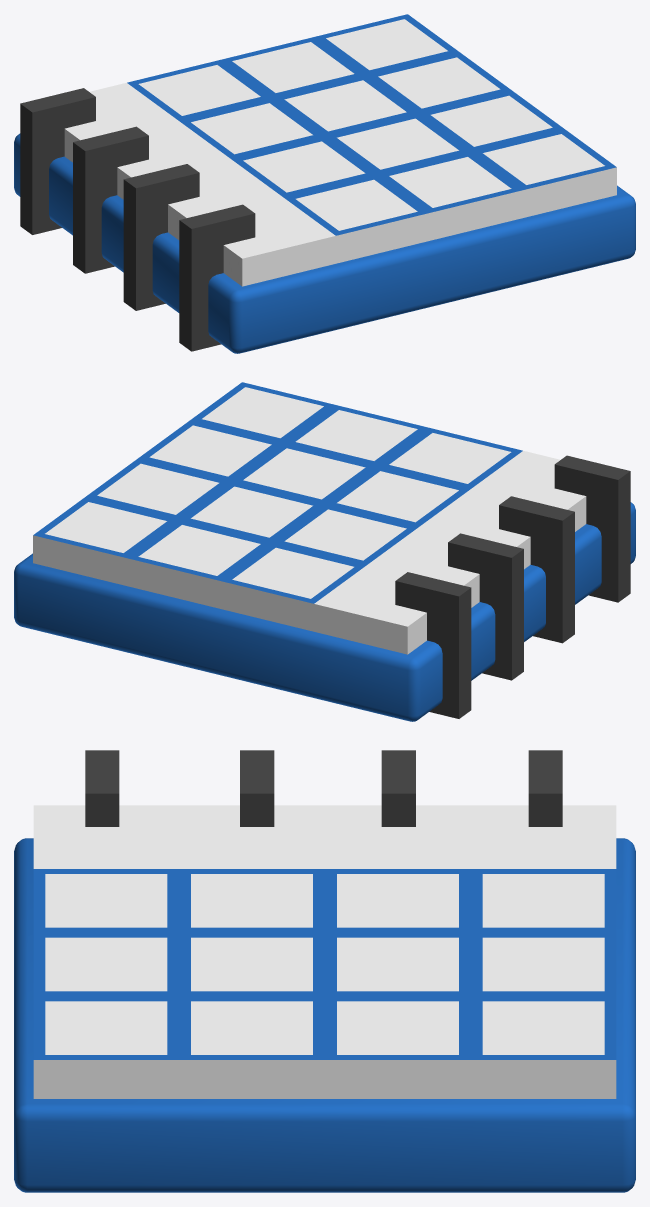
The model's file is StampBoard.fbx.
3 renders of one model, top to bottom at view 1: azimuth 30°, elevation 25°; view 2: azimuth 150°, elevation 25°; view 3: azimuth 270°, elevation 25°, orthographic. The views are drawn at different scales.
Parts seen in each view (by area): view 1: Cube_6; view 2: Cube_6; view 3: Cube_6.
Boxes of the visible parts, x1,y1,x2,y2 form: Cube_6: [14, 14, 635, 353]; Cube_6: [14, 382, 635, 721]; Cube_6: [14, 750, 635, 1192].
Size of the model in its own units: 447 by 124 by 409.
